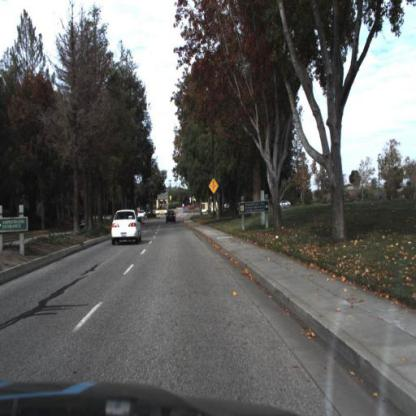car: (111, 211, 140, 244), (165, 210, 178, 224)
